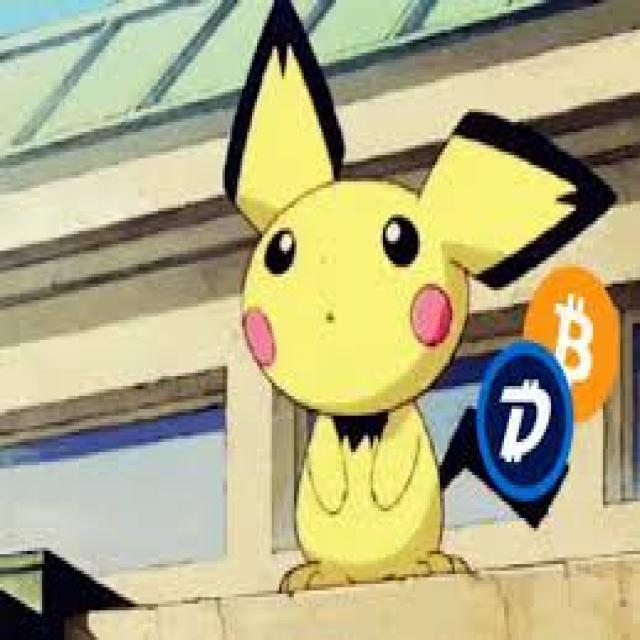pichu: (228, 24, 569, 559)
